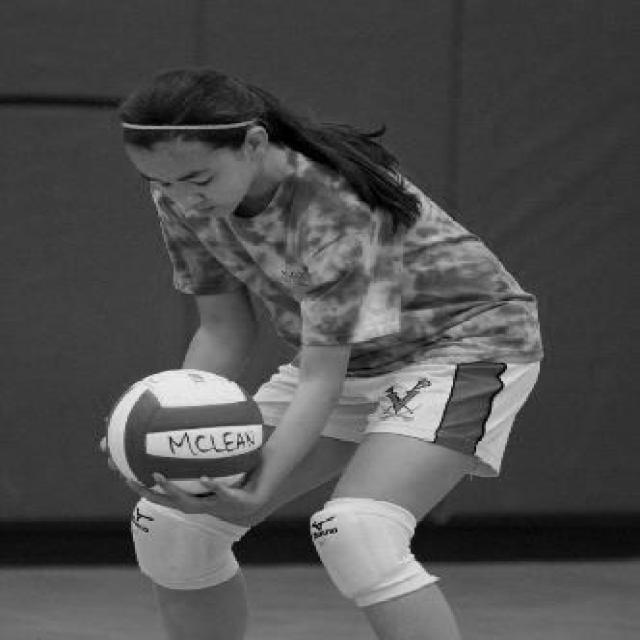volleyball: (108, 369, 264, 498)
